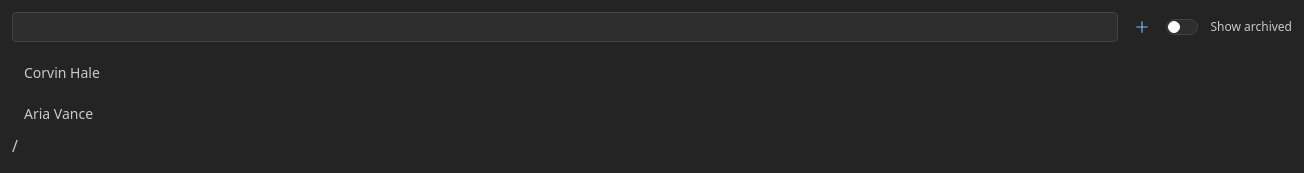
the header's two actions navigate in-entry (D13; 029 U4, US-118.AC-1) › New character moves the in-entry router to /characters/new — DoD-3
What coordinates should you click on to do the following:
click the button named "new character"
I would click on:
 (1142, 27)
Its box is left=1128, top=13, right=1156, bottom=41.
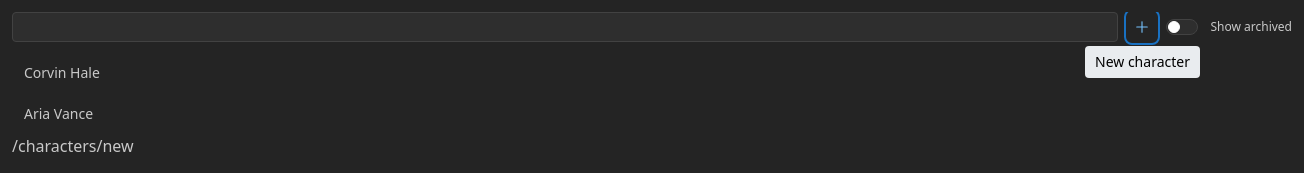
Expected: the text with test id "probe-location" reads "/characters/new", left=12, top=135, right=134, bottom=157
